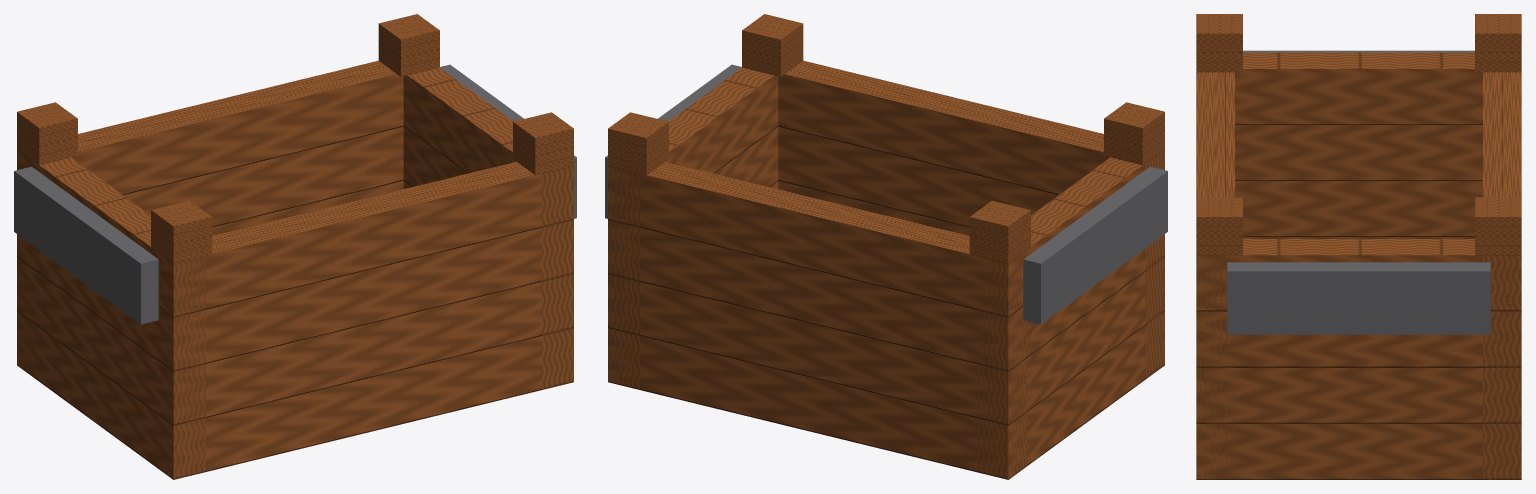
File: picking-crate.glb
3 renders of one model, left to right at view 1: azimuth 30°, elevation 25°; view 2: azimuth 150°, elevation 25°; view 3: azimuth 270°, elevation 25°, orthographic. The views are drawn at different scales.
Parts seen in each view (by area): view 1: picking-crate-timber, picking-crate-dark; view 2: picking-crate-timber, picking-crate-dark; view 3: picking-crate-timber, picking-crate-dark.
Part boxes in pixels (x1,y1,x2,y2): picking-crate-timber: [17, 14, 573, 479]; picking-crate-dark: [14, 64, 576, 324]; picking-crate-timber: [608, 14, 1164, 479]; picking-crate-dark: [605, 64, 1167, 324]; picking-crate-timber: [1196, 14, 1521, 479]; picking-crate-dark: [1227, 50, 1490, 334].
Bounding box in the file's own units: 0.675 × 0.375 × 0.42.
2 materials, 1 textured.
